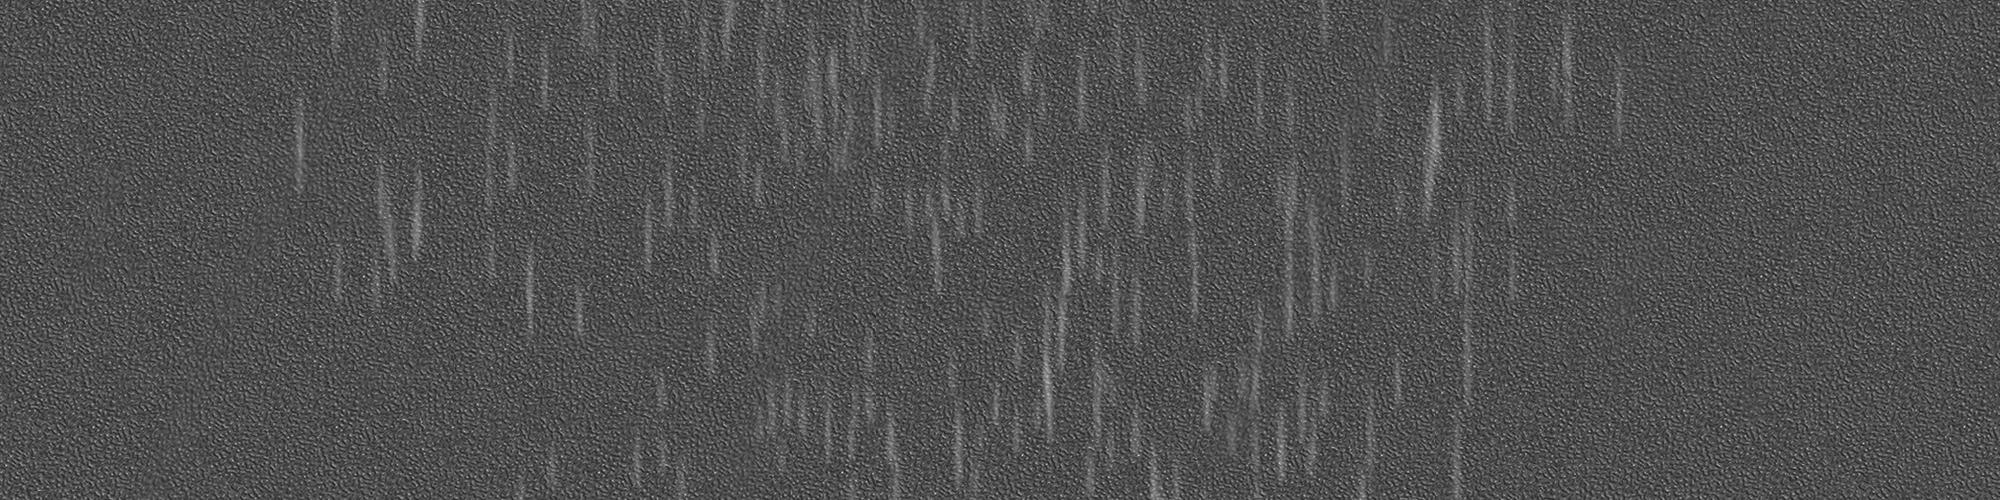Streaks: (1441, 83, 1482, 404), (795, 27, 864, 185), (1346, 344, 1411, 497), (1469, 6, 1537, 151), (1120, 406, 1200, 499), (747, 19, 797, 159), (1079, 344, 1119, 500), (1167, 161, 1205, 320), (1222, 339, 1263, 489), (1269, 158, 1302, 341), (1546, 8, 1591, 143), (1408, 82, 1452, 216), (1108, 244, 1165, 347), (749, 281, 825, 356), (1290, 358, 1335, 483), (626, 422, 702, 497), (1048, 193, 1077, 386), (372, 143, 406, 306), (943, 389, 987, 500), (1111, 4, 1159, 105), (569, 99, 605, 233), (281, 82, 319, 195), (691, 3, 742, 84), (658, 152, 705, 239), (472, 133, 524, 210), (747, 379, 816, 437), (857, 173, 920, 236), (517, 232, 548, 352), (1196, 27, 1240, 115), (1084, 187, 1114, 316), (1032, 298, 1056, 452), (1310, 223, 1349, 312), (733, 122, 769, 219), (883, 385, 913, 495), (1500, 187, 1526, 319), (404, 161, 436, 264), (1062, 185, 1094, 286), (939, 171, 989, 235), (1125, 142, 1152, 259), (1321, 125, 1353, 222), (1270, 393, 1298, 500), (861, 62, 892, 159), (371, 33, 407, 114), (937, 84, 969, 170), (320, 232, 355, 311), (1089, 131, 1119, 223), (1605, 68, 1636, 151), (638, 358, 681, 418), (1068, 48, 1097, 136), (838, 409, 869, 492), (841, 4, 876, 74), (494, 437, 533, 500), (909, 43, 937, 131), (1193, 351, 1219, 443), (1445, 397, 1469, 497), (474, 219, 509, 290), (949, 3, 994, 56), (1239, 57, 1270, 131), (925, 191, 946, 300), (638, 193, 666, 270), (531, 34, 557, 115), (651, 24, 673, 116), (1009, 6, 1057, 50), (981, 82, 1009, 156), (1011, 117, 1045, 180), (682, 83, 713, 151), (1353, 241, 1390, 295), (1176, 83, 1204, 147), (1378, 6, 1403, 75), (1369, 83, 1392, 159), (1421, 255, 1449, 318), (699, 314, 724, 381), (573, 0, 601, 60), (607, 48, 626, 133), (1269, 69, 1293, 135), (703, 219, 724, 293), (1003, 325, 1031, 381), (1309, 6, 1347, 47), (903, 3, 940, 45), (497, 33, 524, 89), (1208, 131, 1231, 196), (973, 301, 1003, 351), (408, 5, 432, 64), (759, 440, 793, 478), (532, 446, 564, 487), (862, 343, 876, 435), (318, 6, 349, 45), (565, 282, 583, 349), (1027, 71, 1052, 117), (862, 311, 886, 358), (1003, 393, 1023, 448), (987, 375, 1004, 441), (828, 392, 843, 462), (490, 70, 506, 131), (937, 349, 962, 390), (1013, 54, 1029, 103)
